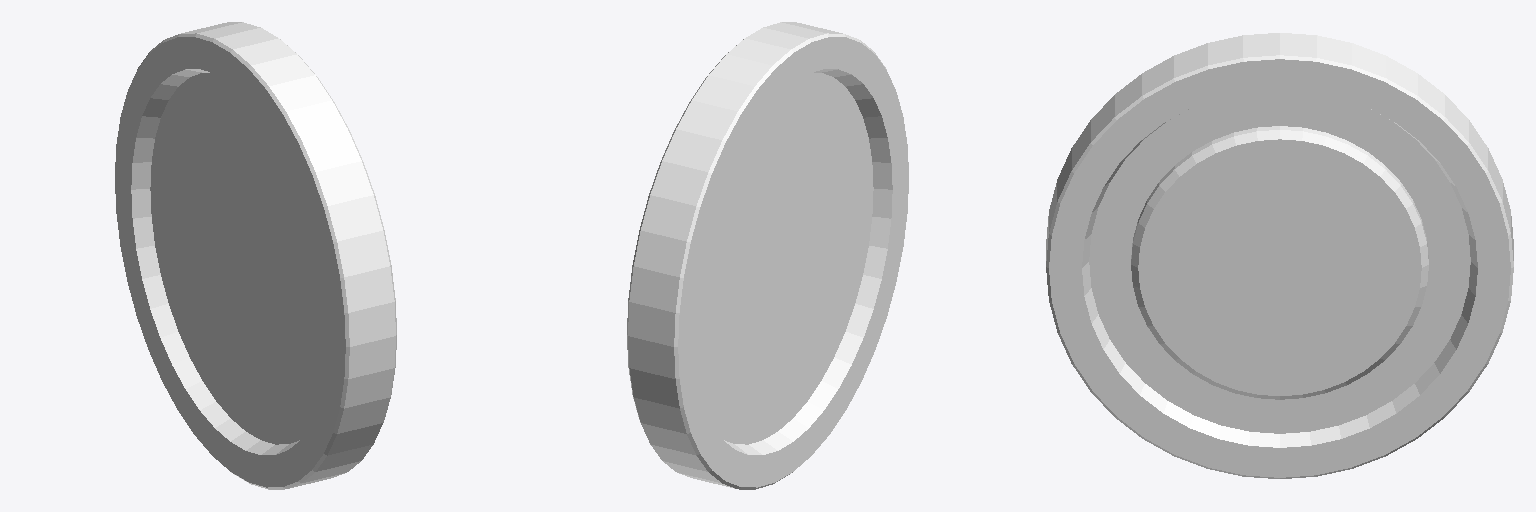
3 views of the same model, side by side, from view 1: azimuth 30°, elevation 25°; view 2: azimuth 150°, elevation 25°; view 3: azimuth 270°, elevation 25° (orthographic).
Parts seen in each view (by area): view 1: SkelMesh_FinnCoin; view 2: SkelMesh_FinnCoin; view 3: SkelMesh_FinnCoin.
Boxes of the visible parts, x1=… form: SkelMesh_FinnCoin: x1=115, y1=22, x2=396, y2=489; SkelMesh_FinnCoin: x1=627, y1=22, x2=908, y2=489; SkelMesh_FinnCoin: x1=1046, y1=33, x2=1513, y2=478.
Bounding box in the file's own units: 0.4173 × 3.29 × 3.29.
1 materials, 1 textured.